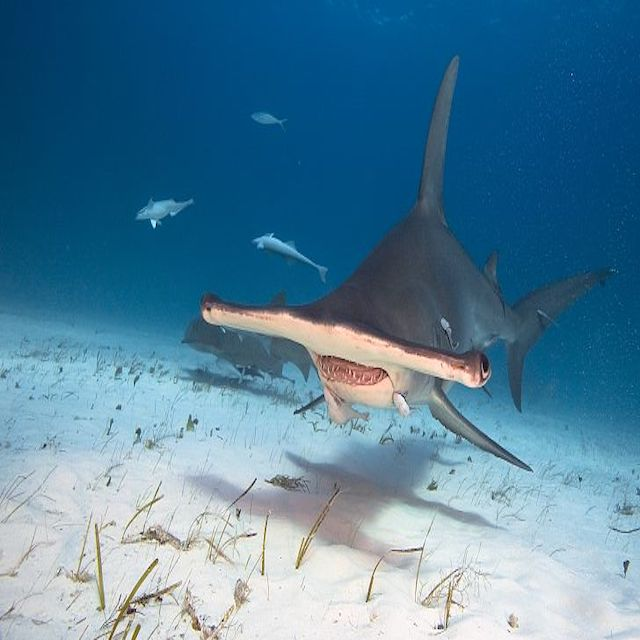hammerhead: (173, 241, 507, 441)
